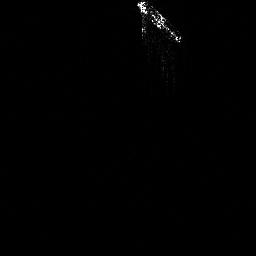ship: (136, 1, 183, 42)
